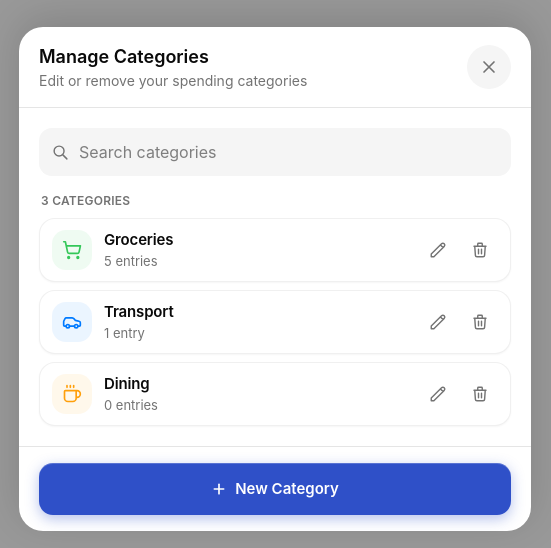
it: ManageCategoriesPopin › shows the empty state, quoting the query, when nothing matches
Type "zzz" into the field with placeholder "Search categories".
click(288, 152); type("zzz")  # box left=79, top=140, right=498, bottom=164
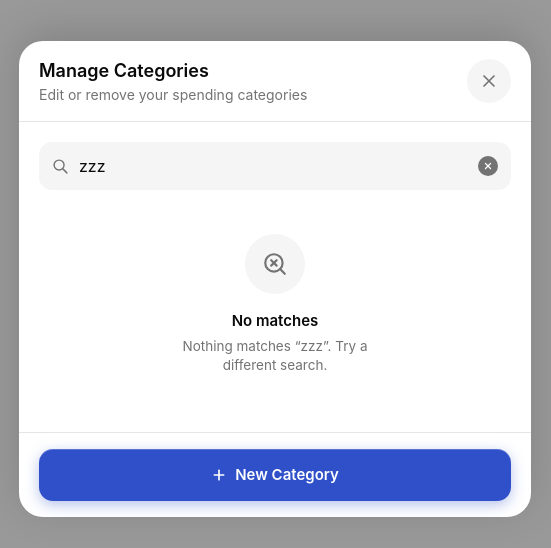
Result: the text "No matches" is shown at left=232, top=310, right=318, bottom=333
Result: the text "Nothing matches “zzz”. Try a different search." is shown at left=182, top=338, right=368, bottom=373
Result: the text "Groceries" is gone
